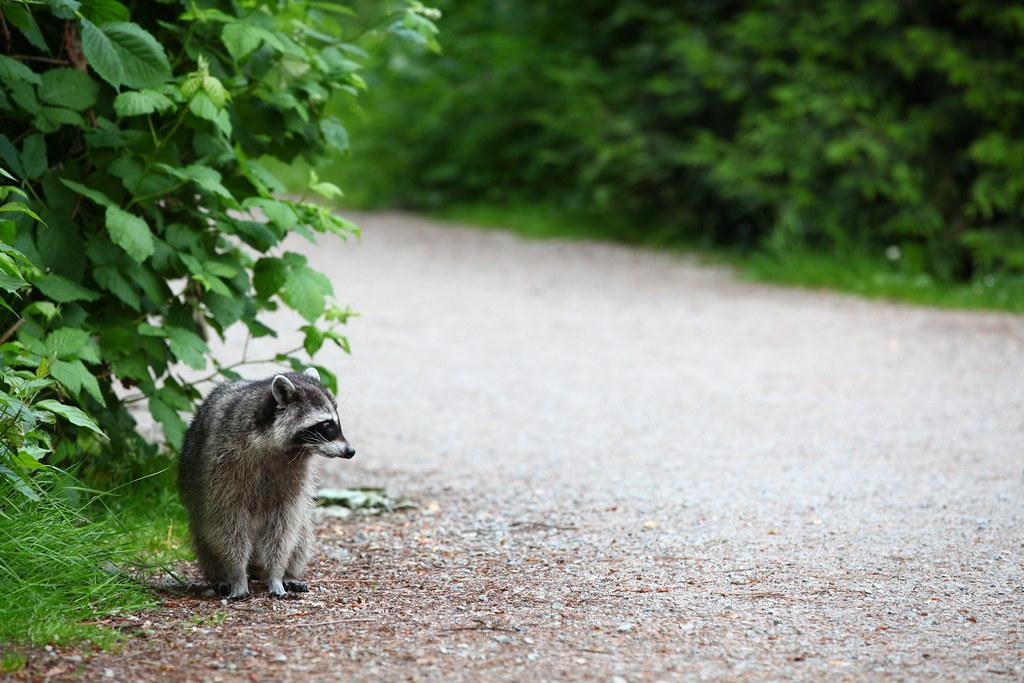raccoon: (150, 367, 356, 601)
